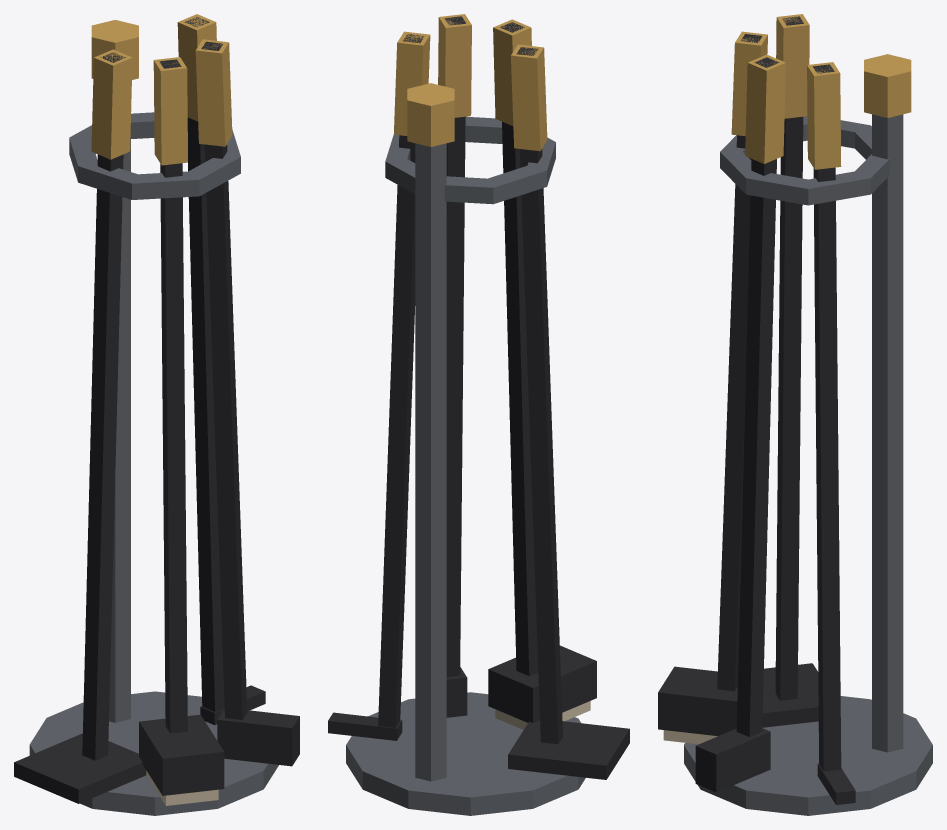
File: FN_Set_Fire_Irons.glb
3 renders of one model, left to right at view 1: azimuth 30°, elevation 25°; view 2: azimuth 150°, elevation 25°; view 3: azimuth 270°, elevation 25°, orthographic.
Parts seen in each view (by area): view 1: FN_Set_Fire_Irons; view 2: FN_Set_Fire_Irons; view 3: FN_Set_Fire_Irons.
Part boxes in pixels (x1,y1,x2,y2): FN_Set_Fire_Irons: [14, 14, 299, 815]; FN_Set_Fire_Irons: [328, 14, 629, 815]; FN_Set_Fire_Irons: [658, 14, 932, 815].
Size of the model in its own units: 0.2667 by 0.7 by 0.2428.
1 material, 1 textured.
